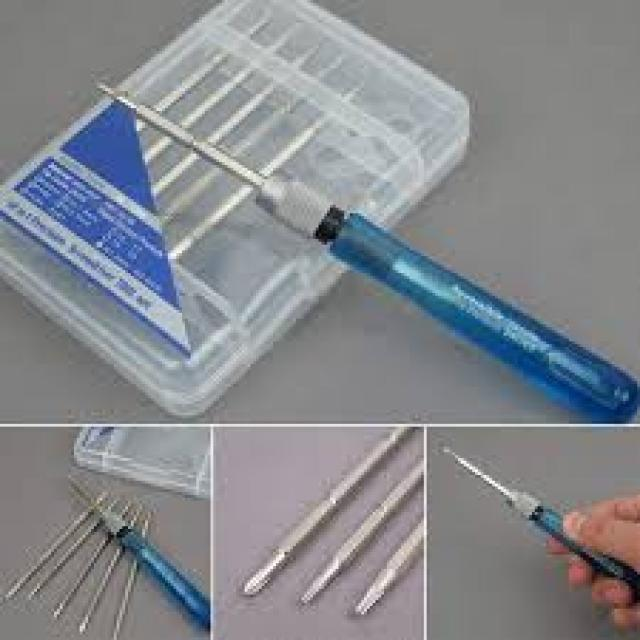screwdriver: (94, 77, 640, 421), (435, 438, 640, 603), (68, 476, 208, 624)
